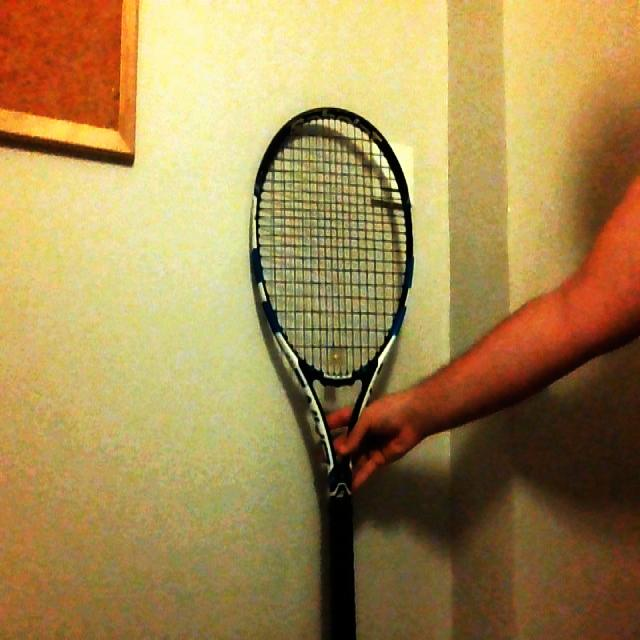TennisRacket: (251, 95, 415, 640)
